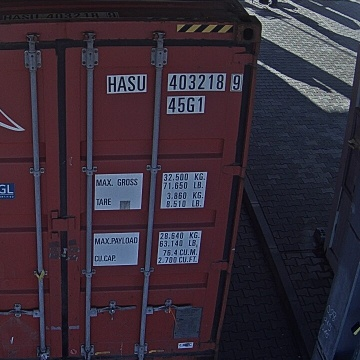serial_id: (108, 74, 241, 91)
